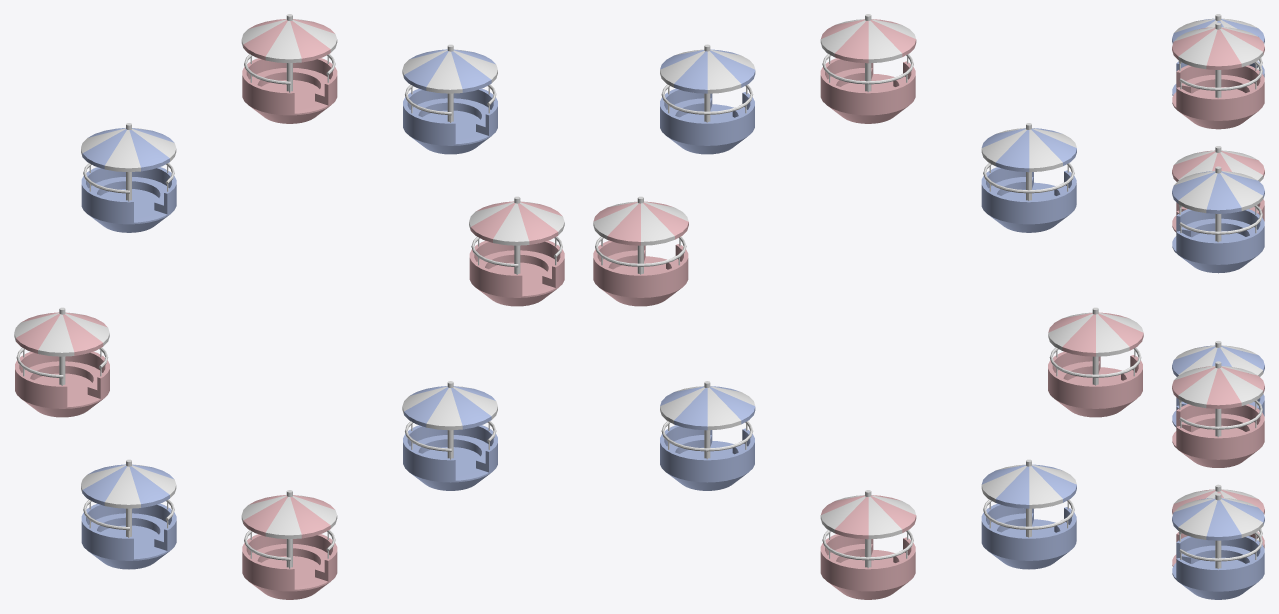
File: Ferris.glb
3 views of the same model, side by side, from view 1: azimuth 30°, elevation 25°; view 2: azimuth 150°, elevation 25°; view 3: azimuth 270°, elevation 25° (orthographic). The views are drawn at different scales.
Visible parts, largest first — view 1: F01, F05, F03, F06, F08, F07, F04, F02; view 2: F03, F05, F01, F08, F06, F04, F07, F02; view 3: F03, F04, F05, F02, F07, F08, F01, F06.
Part boxes in pixels (x1,y1,x2,y2): F01: [241, 490, 337, 599]; F05: [241, 14, 337, 123]; F03: [469, 196, 564, 306]; F06: [81, 123, 176, 232]; F08: [81, 459, 176, 569]; F07: [14, 307, 109, 417]; F04: [402, 44, 497, 154]; F02: [402, 381, 497, 490]; F03: [593, 196, 688, 306]; F05: [820, 14, 916, 123]; F01: [820, 490, 916, 599]; F08: [981, 459, 1076, 569]; F06: [981, 123, 1076, 232]; F04: [660, 44, 755, 154]; F07: [1048, 307, 1143, 417]; F02: [660, 381, 755, 490]; F03: [1172, 361, 1264, 467]; F04: [1172, 166, 1264, 273]; F05: [1172, 22, 1264, 129]; F02: [1172, 493, 1264, 599]; F07: [1172, 146, 1264, 232]; F08: [1172, 341, 1264, 427]; F01: [1172, 484, 1264, 566]; F06: [1172, 14, 1264, 95].
Size of the model in its own units: 2.6 by 2.65 by 0.4.
